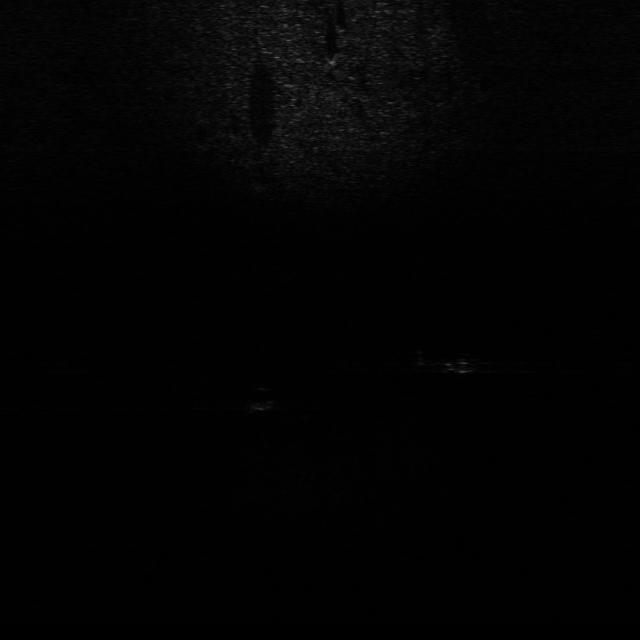ball: (238, 382, 290, 413)
human body: (403, 347, 492, 380)
